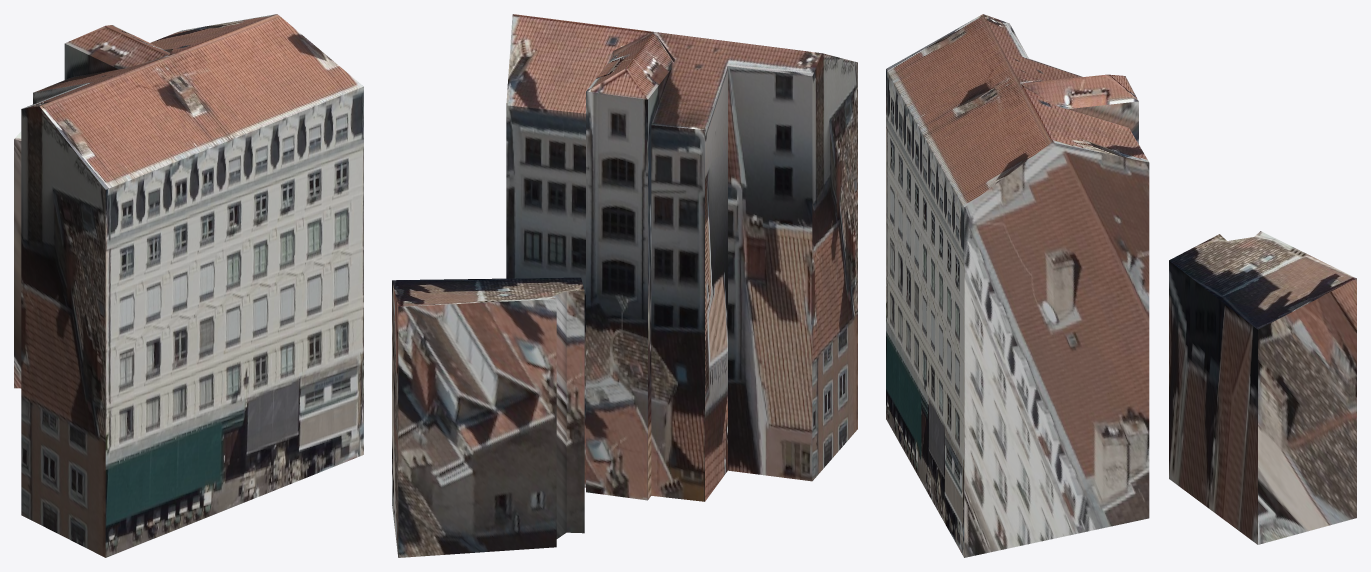
The picture shows the model from 3 angles, left to right: view 1: azimuth 30°, elevation 25°; view 2: azimuth 150°, elevation 25°; view 3: azimuth 270°, elevation 25°; orthographic projection. The views are drawn at different scales.
Parts seen in each view (by area): view 1: Z_UP; view 2: Z_UP; view 3: Z_UP.
Boxes of the visible parts, x1,y1,x2,y2 form: Z_UP: (14,14,363,557); Z_UP: (392,14,857,557); Z_UP: (886,14,1356,557).
Size of the model in its own units: 23.18 by 29.08 by 31.16.
Materials: 2 (1 with a texture image).
